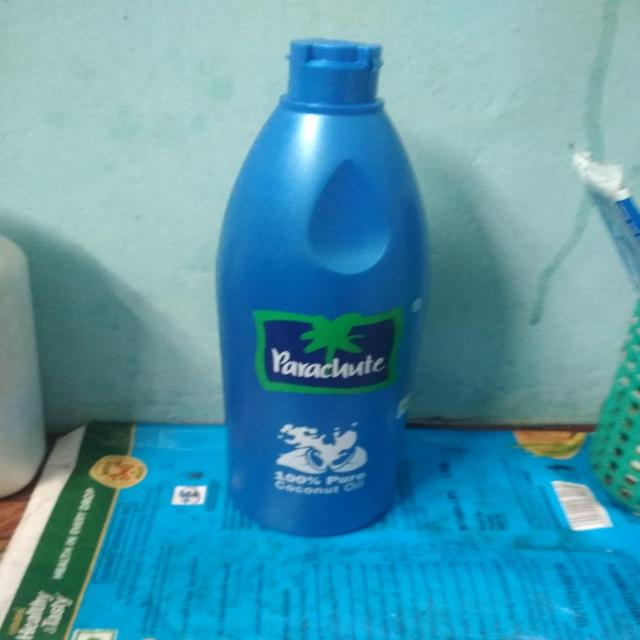parachute_oil: (204, 29, 446, 546)
